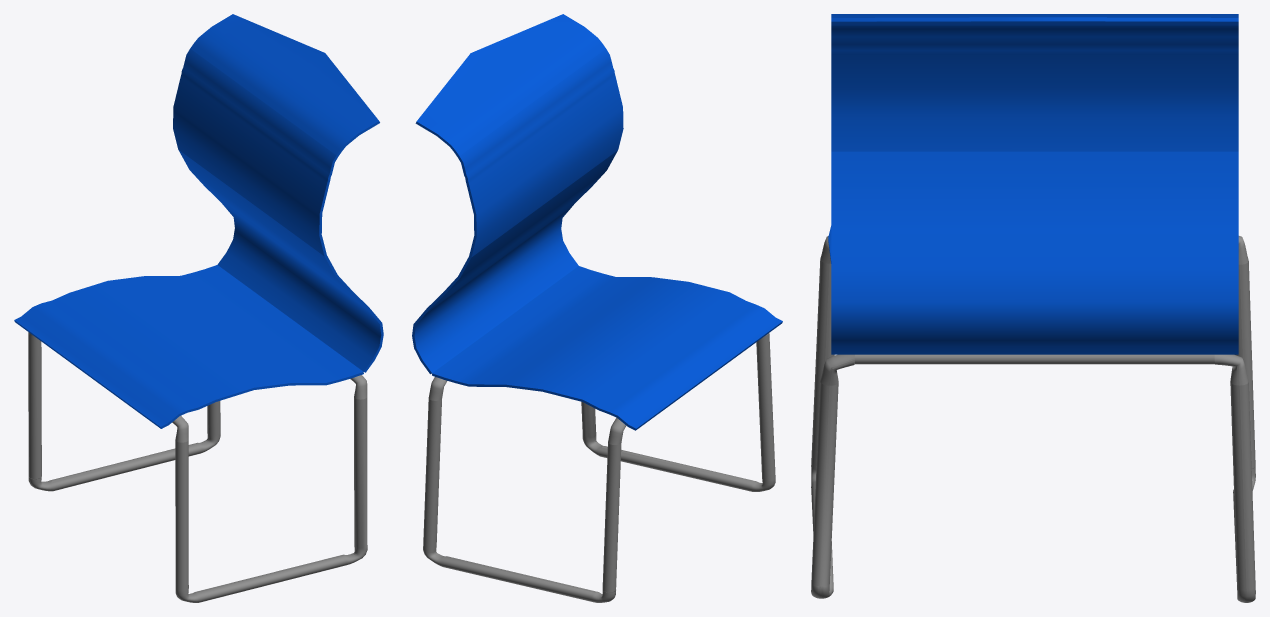
File: Silla3.fbx
3 renders of one model, left to right at view 1: azimuth 30°, elevation 25°; view 2: azimuth 150°, elevation 25°; view 3: azimuth 270°, elevation 25°, orthographic. The views are drawn at different scales.
Parts seen in each view (by area): view 1: Plane, Cylinder, Cylinder.002; view 2: Plane, Cylinder.002, Cylinder; view 3: Plane, Cylinder, Cylinder.002, Cylinder.001.
Part boxes in pixels (x1,y1,x2,y2): Plane: (14, 14, 383, 428); Cylinder: (172, 375, 367, 602); Cylinder.002: (28, 332, 220, 491); Plane: (412, 14, 782, 430); Cylinder.002: (423, 377, 626, 602); Cylinder: (581, 333, 775, 491); Plane: (828, 14, 1238, 354); Cylinder: (811, 236, 854, 598); Cylinder.002: (1214, 236, 1255, 602); Cylinder.001: (855, 354, 1214, 364).
Bounding box in the file's own units: 189 × 335 × 218.
